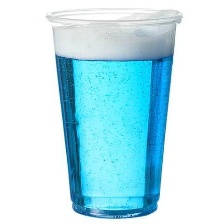glass: (43, 4, 190, 224)
